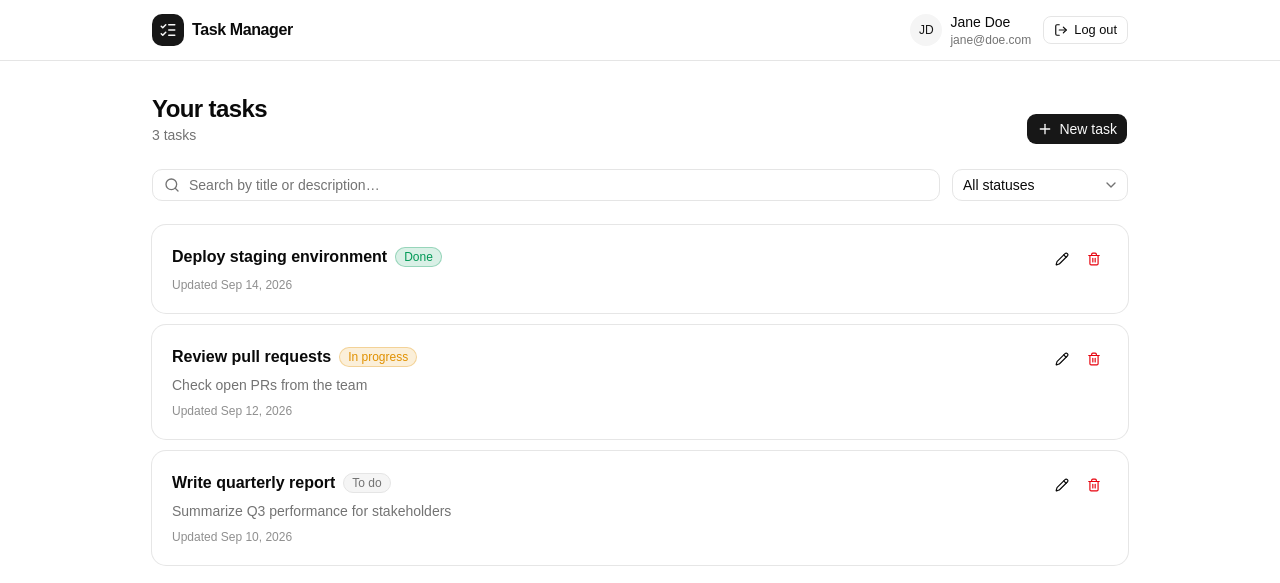
DashboardPage › shows an empty state when no tasks match the filters
The image size is (1280, 583).
Expected: the heading "Write quarterly report" is shown, [172,471,335,495]
Type "nonexistent task xyz" into the field named "search tasks".
click(546, 185); type("nonexistent task xyz")  # box [152,169,940,201]
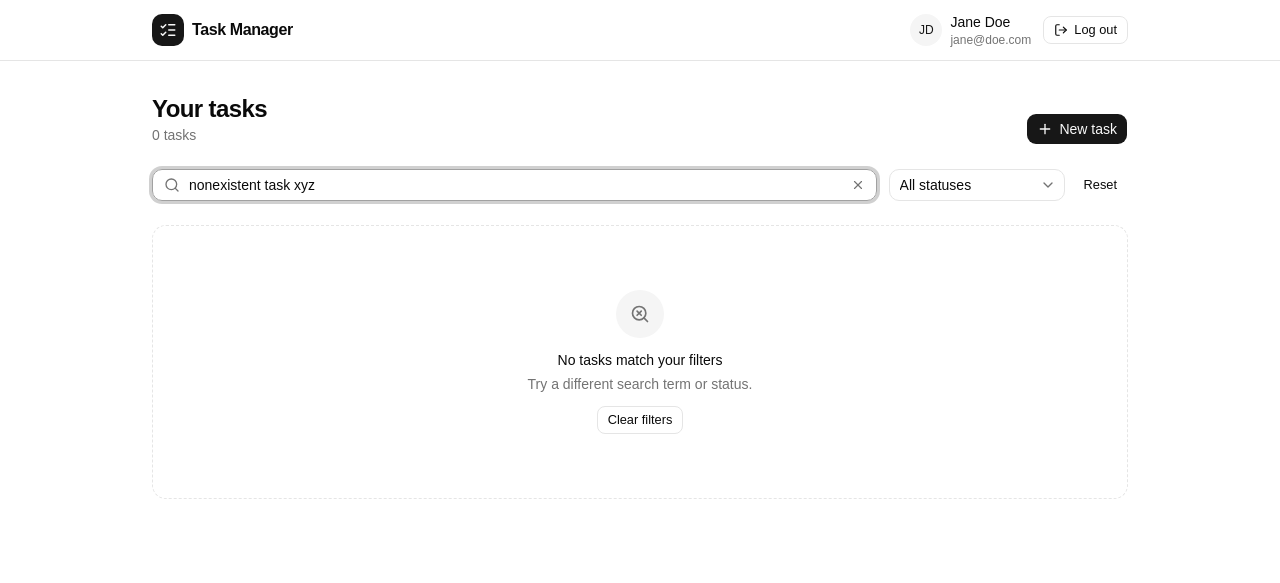
Expected: the text "No tasks match your filters" is shown, [558,352,722,368]
